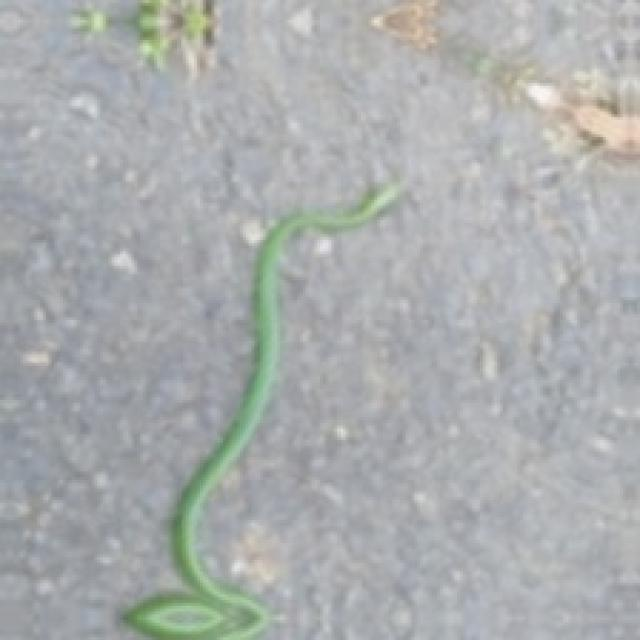red-tailed green ratsnake: (123, 180, 400, 637)
